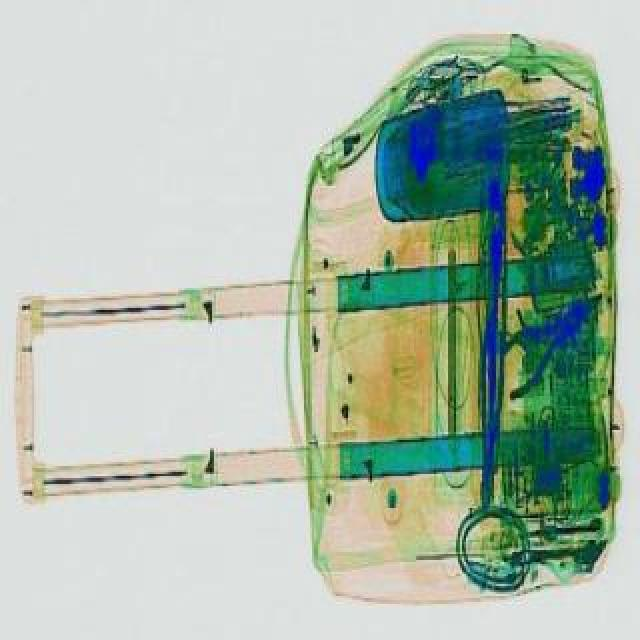wrench: (476, 272, 620, 398)
